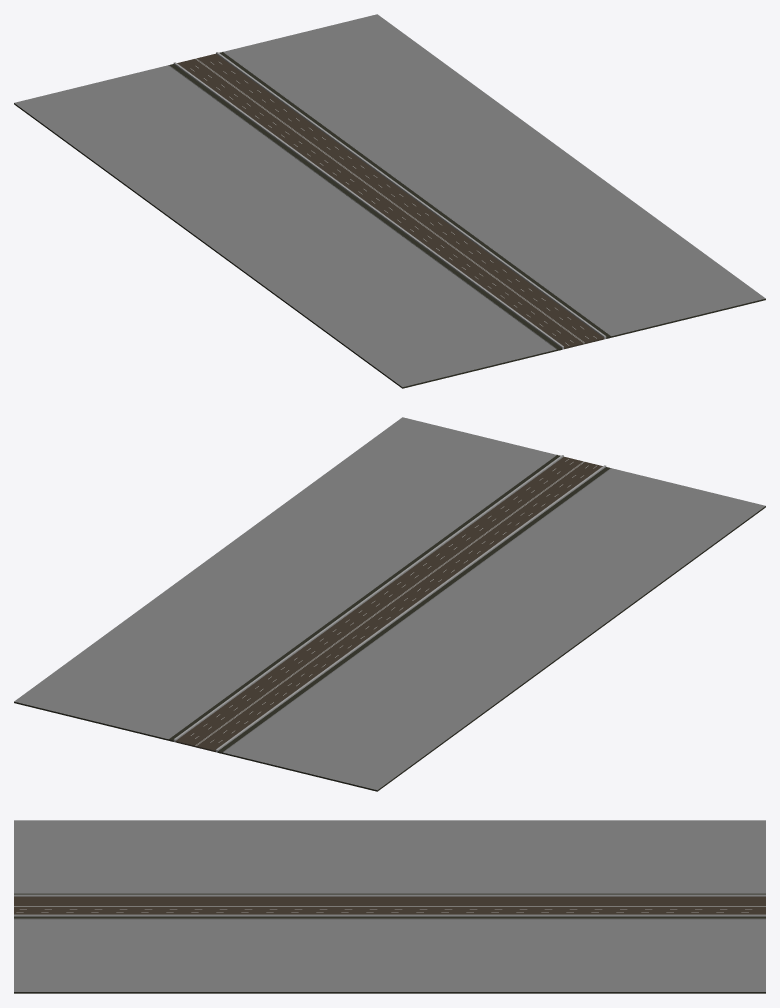
File: road.fbx
The picture shows the model from 3 angles, top to bottom: view 1: azimuth 30°, elevation 25°; view 2: azimuth 150°, elevation 25°; view 3: azimuth 270°, elevation 25°; orthographic projection. The views are drawn at different scales.
Parts seen in each view (by area): view 1: Cube.003, Cube, Cube.001; view 2: Cube.003, Cube, Cube.001; view 3: Cube.003, Cube, Cube.001.
Boxes of the visible parts, x1=… form: Cube.003: x1=14, y1=14, x2=765, y2=388; Cube: x1=173, y1=52, x2=606, y2=349; Cube.001: x1=195, y1=58, x2=584, y2=344; Cube.003: x1=14, y1=417, x2=765, y2=791; Cube: x1=173, y1=455, x2=606, y2=752; Cube.001: x1=195, y1=461, x2=584, y2=745; Cube.003: x1=14, y1=820, x2=765, y2=993; Cube: x1=14, y1=894, x2=765, y2=916; Cube.001: x1=14, y1=906, x2=765, y2=906.
Size of the model in its own units: 5400 by 39.64 by 10000.
